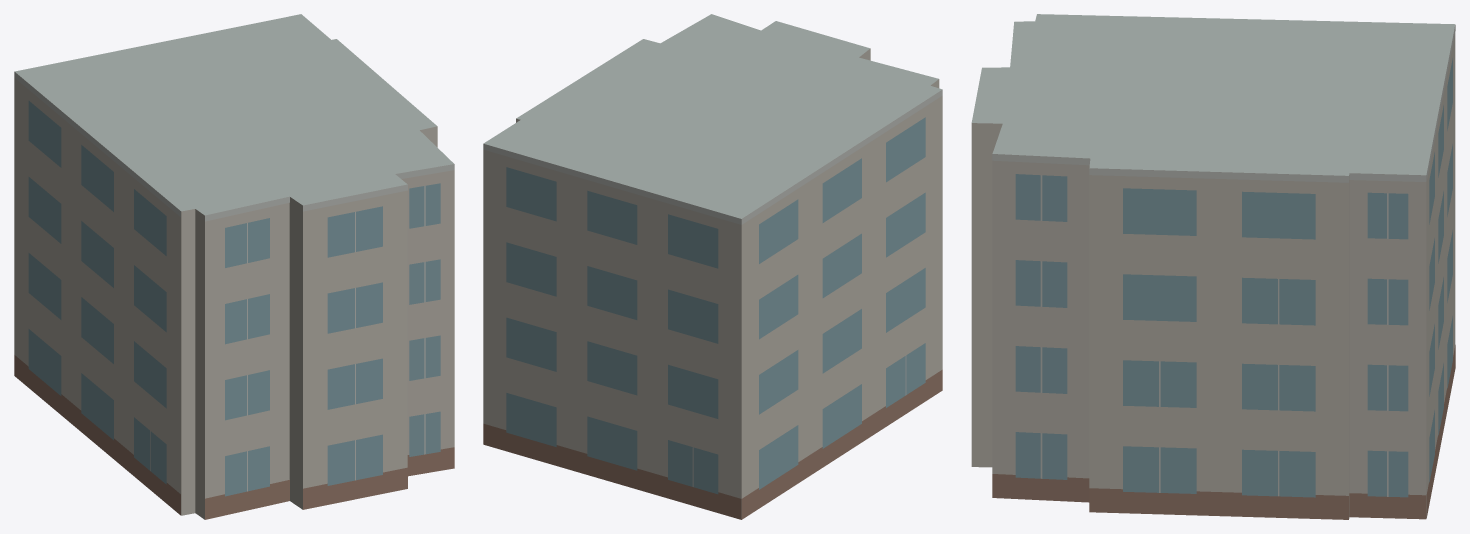
The model's file is survey-upis-32925094.glb.
3 views of the same model, side by side, from view 1: azimuth 30°, elevation 25°; view 2: azimuth 150°, elevation 25°; view 3: azimuth 270°, elevation 25° (orthographic). The views are drawn at different scales.
Parts seen in each view (by area): view 1: survey-upis-32925094.tmp; view 2: survey-upis-32925094.tmp; view 3: survey-upis-32925094.tmp.
Boxes of the visible parts, x1,y1,x2,y2 form: survey-upis-32925094.tmp: (14,14,454,519); survey-upis-32925094.tmp: (483,14,942,519); survey-upis-32925094.tmp: (971,14,1455,519).
Bounding box in the file's own units: 12.32 × 12.2 × 15.56.
